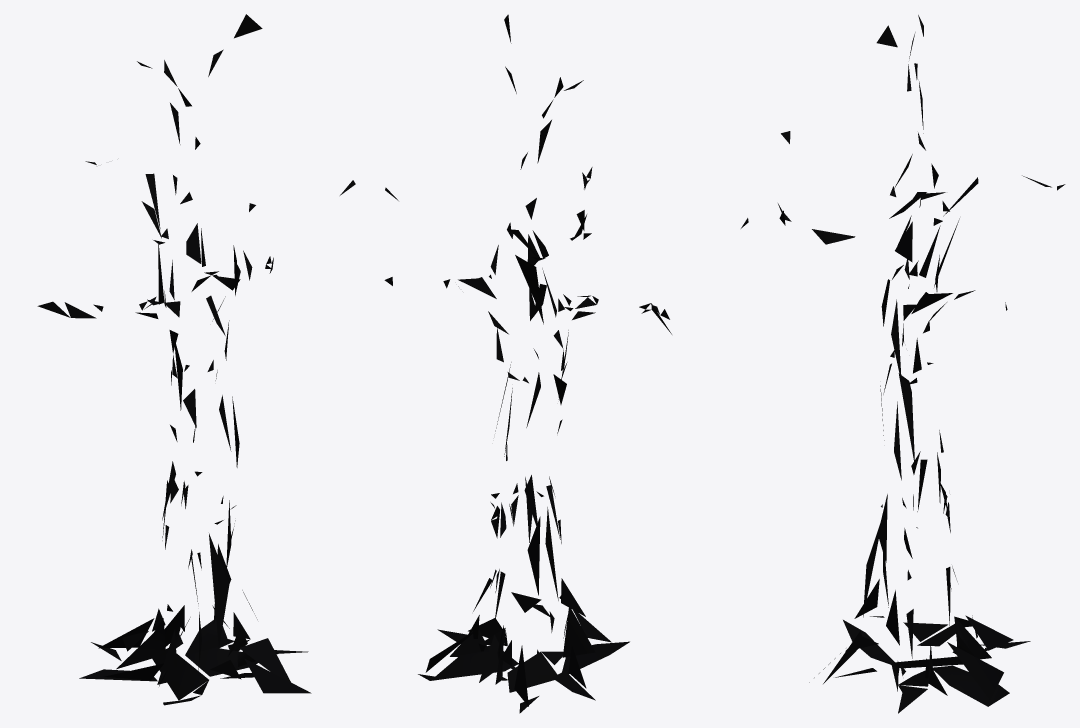
Rendered from dead_tree_lod3.glb.
The picture shows the model from 3 angles, left to right: view 1: azimuth 30°, elevation 25°; view 2: azimuth 150°, elevation 25°; view 3: azimuth 270°, elevation 25°; orthographic projection. The views are drawn at different scales.
Parts seen in each view (by area): view 1: dead_tree_body; view 2: dead_tree_body; view 3: dead_tree_body.
Boxes of the visible parts, <box> form: dead_tree_body: <box>37,14,355,705</box>; dead_tree_body: <box>384,14,748,713</box>; dead_tree_body: <box>778,15,1065,713</box>.
Bounding box in the file's own units: 4.65 × 9.34 × 3.63.
Materials: 1 (1 with a texture image).
